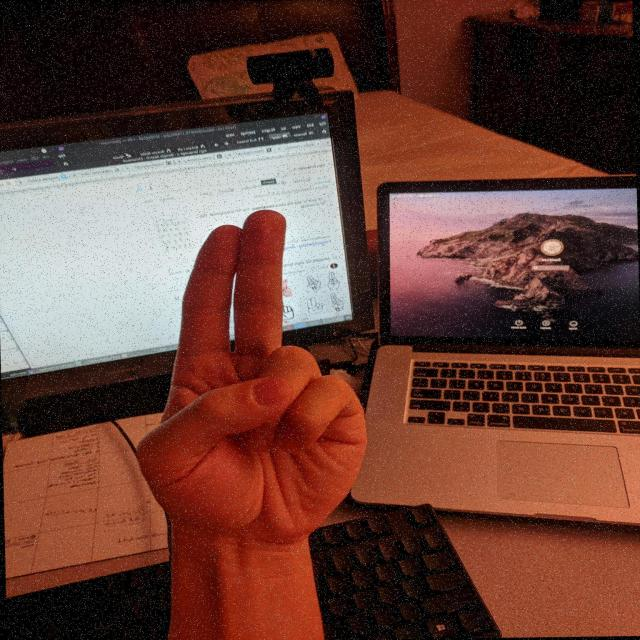U: (125, 201, 375, 548)
